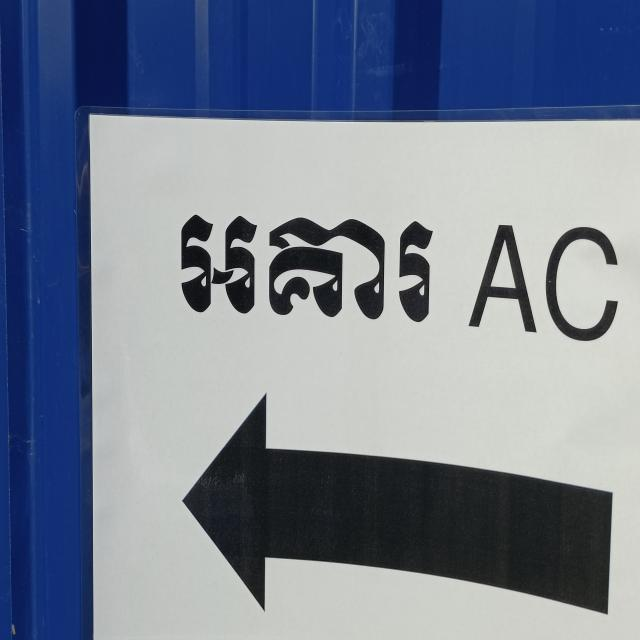Yolov11_80vkh: (171, 193, 449, 336)
